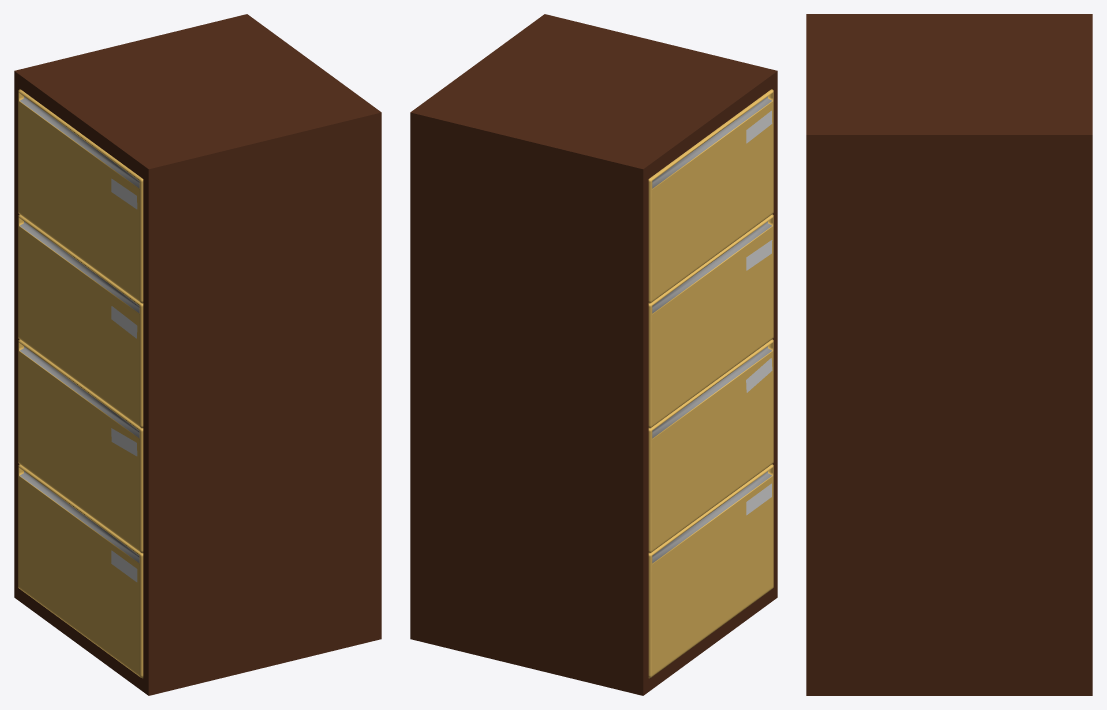
File: FileCabinetBase.fbx
3 views of the same model, side by side, from view 1: azimuth 30°, elevation 25°; view 2: azimuth 150°, elevation 25°; view 3: azimuth 270°, elevation 25° (orthographic). The views are drawn at different scales.
Visible parts, largest first — view 1: FileCabinet, Inserts, NameTags; view 2: FileCabinet, Inserts, NameTags; view 3: FileCabinet.
Boxes of the visible parts, x1,y1,x2,y2 form: FileCabinet: (14, 14, 381, 695); Inserts: (18, 89, 143, 678); NameTags: (111, 178, 137, 581); FileCabinet: (410, 14, 777, 695); Inserts: (648, 89, 773, 678); NameTags: (746, 110, 772, 515); FileCabinet: (806, 14, 1092, 695).
Bounding box in the file's own units: 59.95 × 128 × 59.15.
